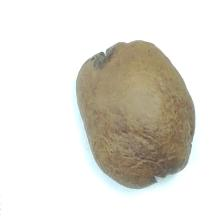NG: (117, 123, 190, 189)
